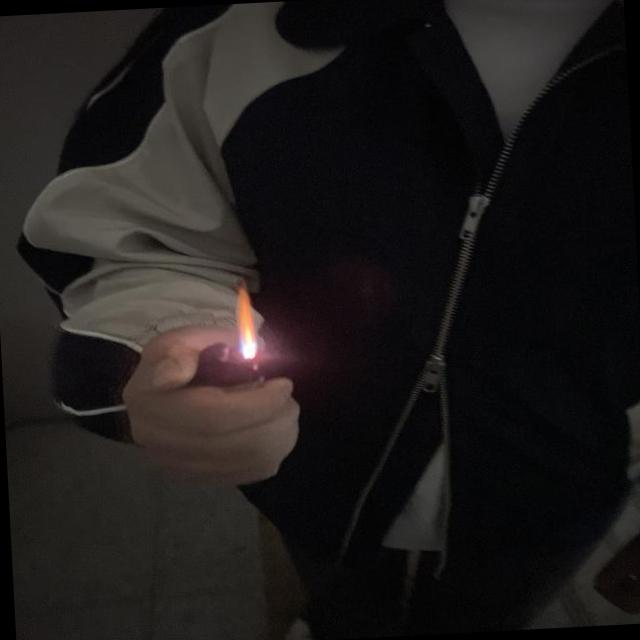Fire: (232, 278, 264, 361)
